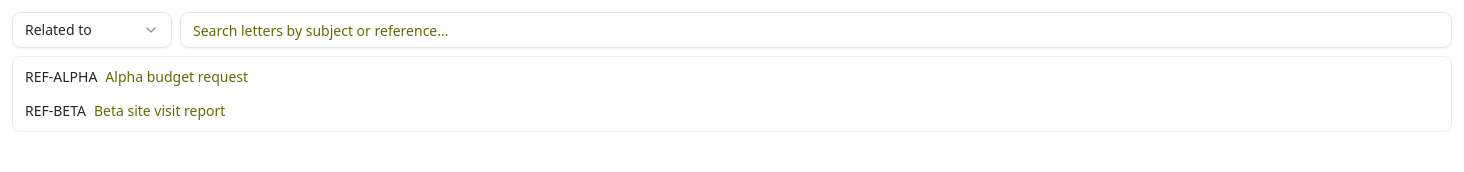
Test: LetterLinkPicker › filters the candidate list by what the user types
expect the text "Alpha budget request" is shown: met, box [105, 67, 248, 86]
expect the text "Beta site visit report" is shown: met, box [94, 101, 225, 120]
Type "budget" into the field with placeholder "Search letters by subject or reference…".
click(816, 30); type("budget")  # box [180, 12, 1452, 48]
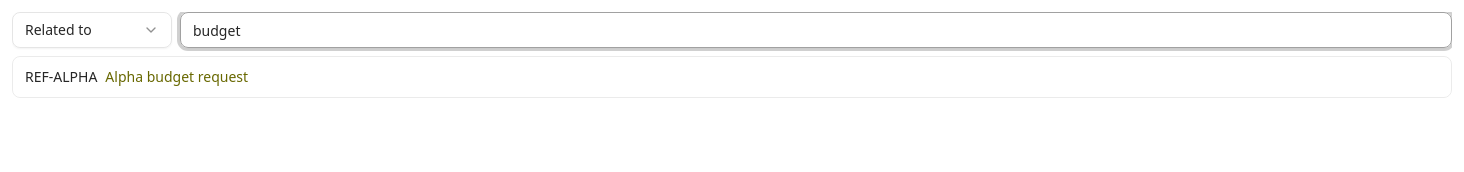
expect the text "Alpha budget request" is shown: met, box [105, 67, 248, 86]
expect the button "Beta site visit report" is gone: met
